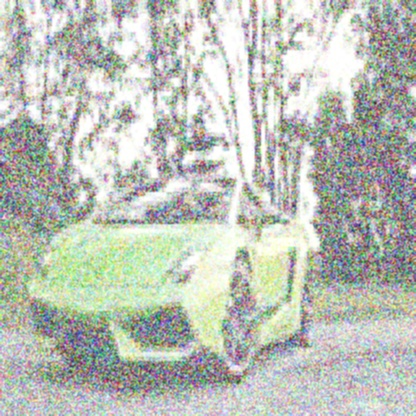Vehicle: (29, 174, 325, 384)
